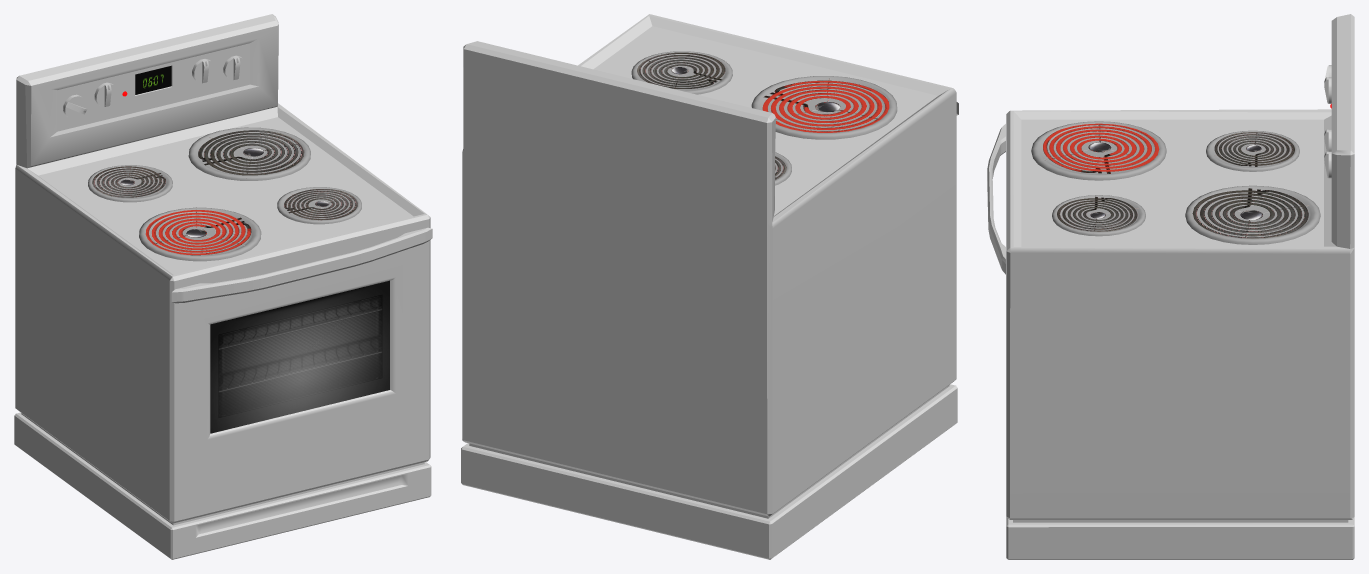
Rendered from KitchenRange.fbx.
3 renders of one model, left to right at view 1: azimuth 30°, elevation 25°; view 2: azimuth 150°, elevation 25°; view 3: azimuth 270°, elevation 25°, orthographic. The views are drawn at different scales.
Parts seen in each view (by area): view 1: Body1, Ovenglass, Texture_Burner_off2, Texture_Burner_on, Texture_Burner_off1, Texture_Burner_off3, Clock; view 2: Body1, Texture_Burner_on, Texture_Burner_off3; view 3: Body1, Texture_Burner_on, Texture_Burner_off2, Texture_Burner_off3, Texture_Burner_off1.
Boxes of the visible parts, x1,y1,x2,y2 form: Body1: (14, 14, 432, 559); Ovenglass: (210, 280, 389, 433); Texture_Burner_off2: (198, 130, 304, 178); Texture_Burner_on: (145, 207, 251, 255); Texture_Burner_off1: (92, 166, 165, 197); Texture_Burner_off3: (284, 189, 357, 221); Clock: (135, 66, 171, 94); Body1: (461, 14, 958, 559); Texture_Burner_on: (762, 78, 889, 132); Texture_Burner_off3: (637, 52, 726, 89); Body1: (987, 14, 1354, 559); Texture_Burner_on: (1043, 123, 1159, 173); Texture_Burner_off2: (1192, 188, 1309, 238); Texture_Burner_off3: (1057, 196, 1138, 231); Texture_Burner_off1: (1214, 132, 1294, 166).
Bounding box in the file's own units: 19.59 × 26.54 × 21.65.
